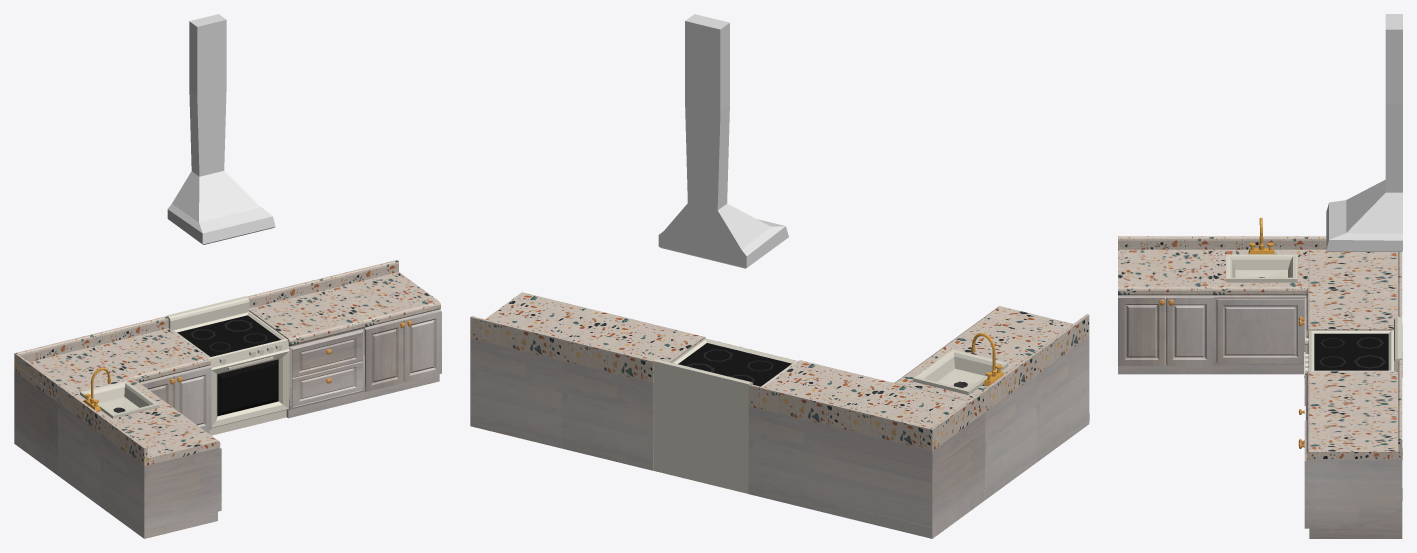
The model's file is kok.glb.
3 views of the same model, side by side, from view 1: azimuth 30°, elevation 25°; view 2: azimuth 150°, elevation 25°; view 3: azimuth 270°, elevation 25° (orthographic). The views are drawn at different scales.
Parts seen in each view (by area): view 1: Kök; view 2: Kök; view 3: Kök.
Part boxes in pixels (x1,y1,x2,y2): Kök: [14, 14, 441, 538]; Kök: [470, 14, 1089, 538]; Kök: [1118, 14, 1402, 538].
Bounding box in the file's own units: 4.08 × 3.86 × 2.4.
Materials: 10 (3 with a texture image).
